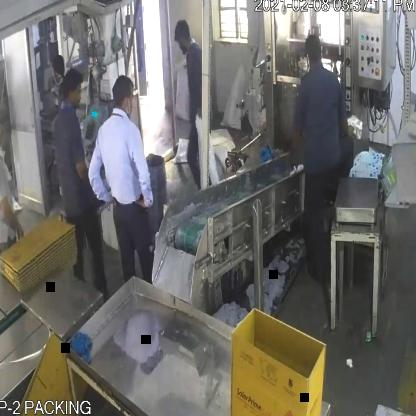no_glove: (128, 138, 155, 224), (0, 180, 31, 242), (90, 149, 119, 209)
